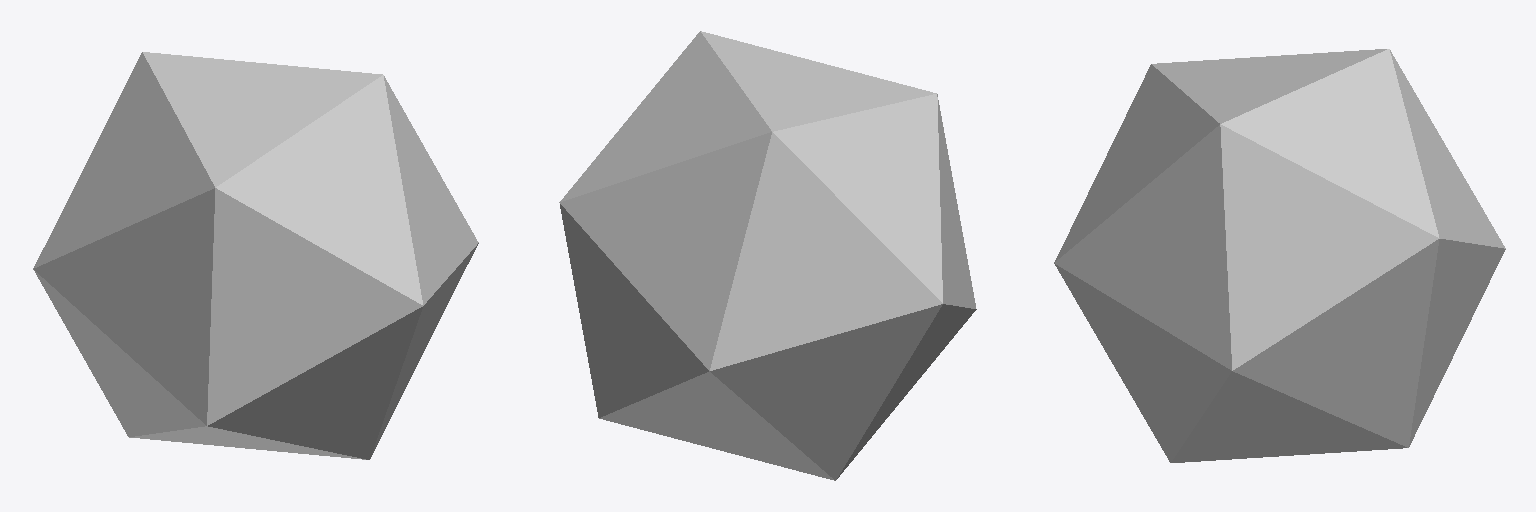
The model's file is conn4.obj.
The picture shows the model from 3 angles: view 1: azimuth 30°, elevation 25°; view 2: azimuth 150°, elevation 25°; view 3: azimuth 270°, elevation 25°; orthographic projection.
Parts seen in each view (by area): view 1: conn0:pPlatonic1; view 2: conn0:pPlatonic1; view 3: conn0:pPlatonic1.
Boxes of the visible parts, box(x1,y1,x2,y2) form: conn0:pPlatonic1: box(33, 52, 478, 459); conn0:pPlatonic1: box(559, 31, 976, 480); conn0:pPlatonic1: box(1054, 49, 1505, 462).
Bounding box in the file's own units: 16.55 × 14.26 × 16.27.